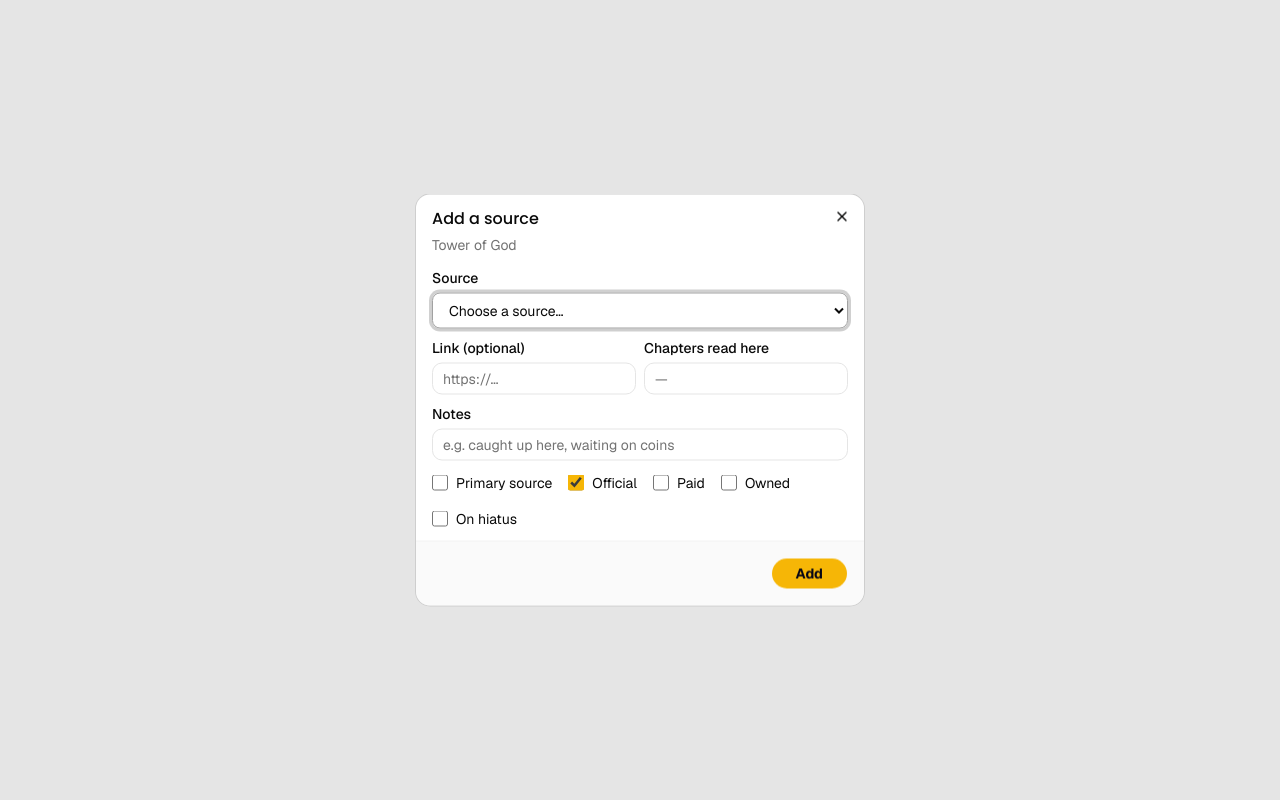
revealing the chapter count › reveals it when the box is ticked
Click the checkbox labelled "Owned". click: {"x": 729, "y": 482}
box: [721,474,737,490]
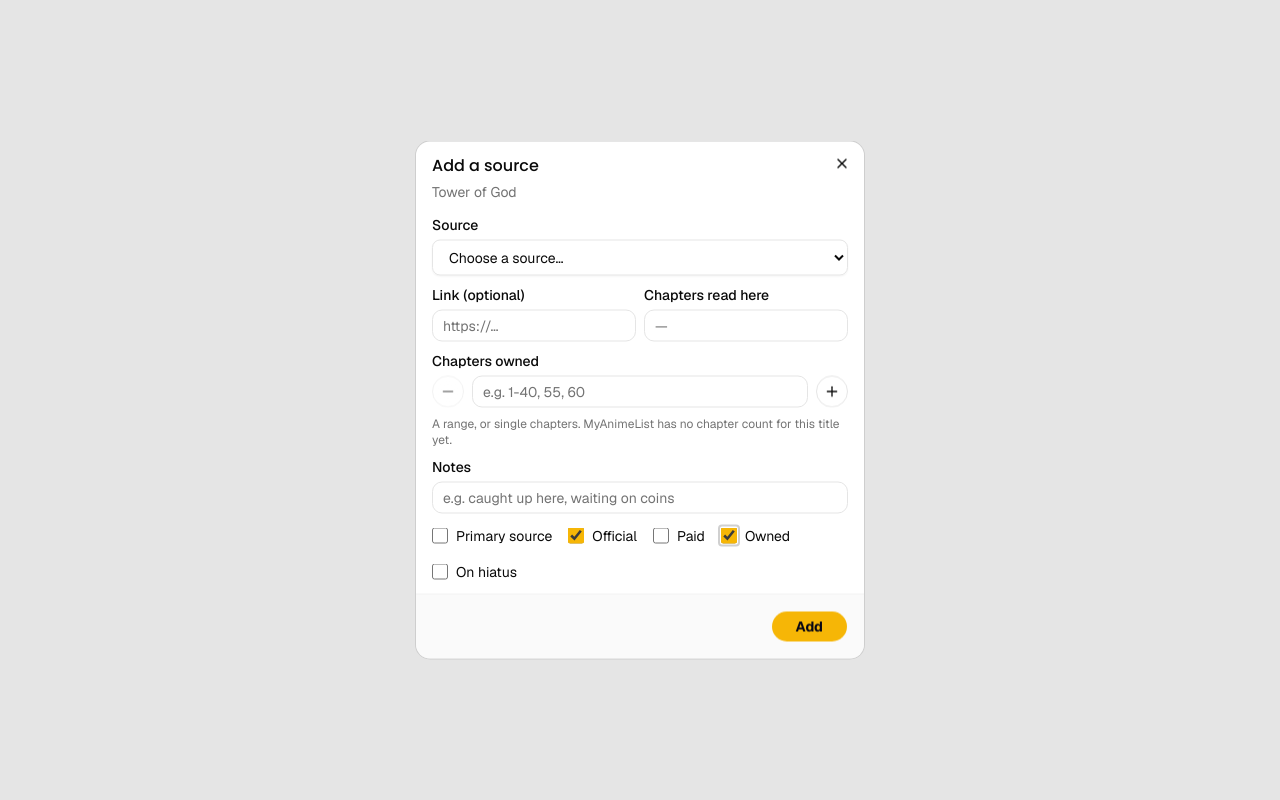
expect the field labelled "Chapters owned" is shown: met, box [472,376,808,408]
